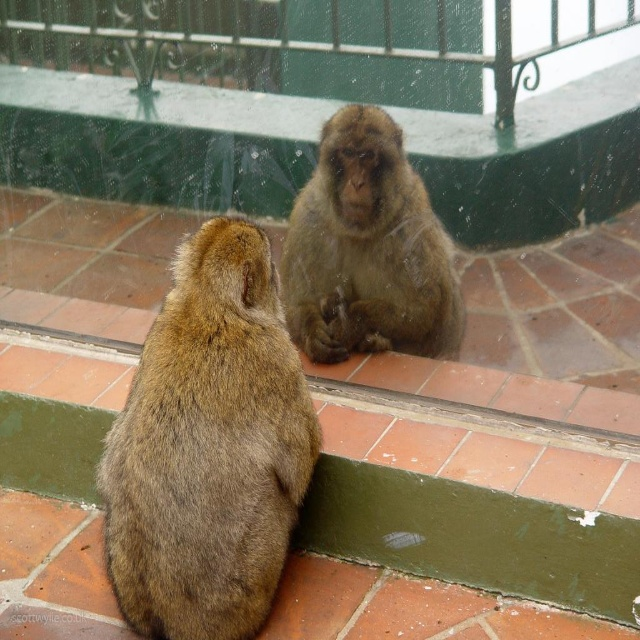Monkey: (96, 214, 325, 639)
